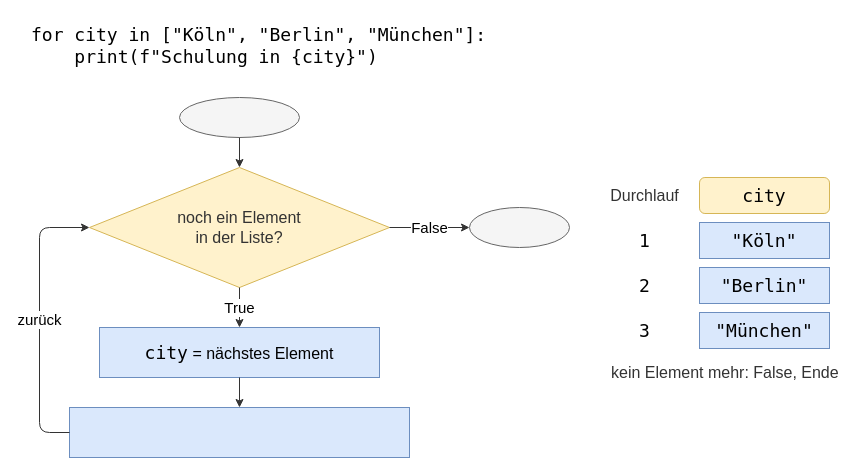
This 856x475 diagram has some shape labels left out. Each missing label, with the centre of its shape:
Ende: (x=519, y=227)
print(f"Schulung in {city}"): (x=239, y=432)
Start: (x=239, y=117)
